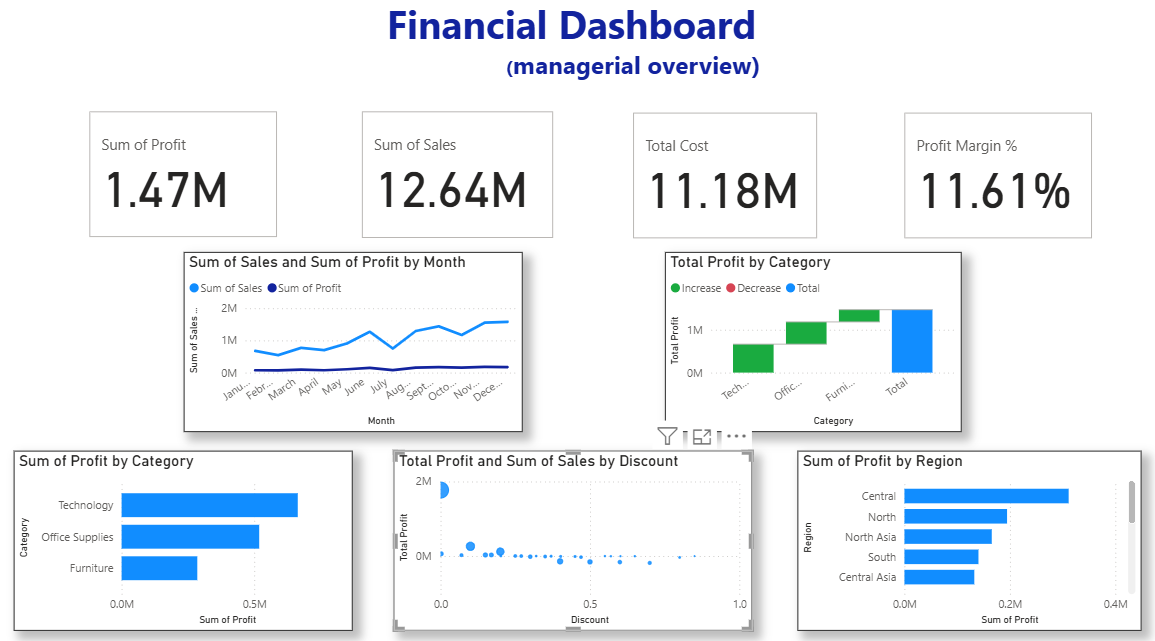

This screenshot's page, from the dashboard's own definition file:
{"tool":"powerbi","page":{"name":"Page 1","canvas":[1280,720],"ordinal":0},"visuals":[{"type":"cardVisual","fields":{"Data":["Sum(Sheet1.Profit)"]},"box":[98.8,126.2,216.8,148.2],"z":0},{"type":"cardVisual","fields":{"Data":["Sum(Sheet1.Sales)"]},"box":[397.9,126.2,220.9,149.6],"z":1000},{"type":"cardVisual","fields":{"Data":["Sheet1.Profit Margin %"]},"box":[993.5,127.6,216.8,148.2],"z":2000},{"type":"cardVisual","fields":{"Data":["Sheet1.Total Cost"]},"box":[695.7,127.6,212.7,148.2],"z":3000},{"type":"lineChart","fields":{"Category":["Sheet1.Order Date.Variation.Date Hierarchy.Month"],"Y":["Sum(Sheet1.Sales)","Sum(Sheet1.Profit)"]},"box":[207.2,285.4,371.9,197.6],"z":4000},{"type":"barChart","fields":{"Y":["Sum(Sheet1.Profit)"],"Category":["Sheet1.Category"]},"box":[20.6,503.6,371.9,197.6],"z":5000},{"type":"waterfallChart","fields":{"Category":["Sheet1.Category"],"Y":["Sheet1.Total Profit"]},"box":[735.5,285.4,325.2,197.6],"z":6000},{"type":"scatterChart","fields":{"X":["Sheet1.Discount"],"Y":["Sheet1.Total Profit"],"Size":["Sum(Sheet1.Sales)"]},"box":[437.7,503.6,393.8,197.6],"z":7000},{"type":"barChart","fields":{"Category":["Sheet1.Region"],"Y":["Sum(Sheet1.Profit)"]},"box":[881,503.6,377.4,197.6],"z":8000},{"type":"textbox","box":[356.8,0,564,127.6],"z":10001}]}

Visuals, with their boxes in screenshot pixels (x1, y1, x2, y2), scaled from the page's 1280x720 canvas onto the 1155x641 screenshot:
cardVisual - Sum(Sheet1.Profit): detection(89, 112, 285, 244)
cardVisual - Sum(Sheet1.Sales): detection(359, 112, 558, 246)
cardVisual - Sheet1.Profit Margin %: detection(896, 114, 1092, 246)
cardVisual - Sheet1.Total Cost: detection(628, 114, 820, 246)
lineChart - Sheet1.Order Date.Variation.Date Hierarchy.Month x Sum(Sheet1.Sales): detection(187, 254, 523, 430)
barChart - Sum(Sheet1.Profit) x Sheet1.Category: detection(19, 448, 354, 624)
waterfallChart - Sheet1.Category x Sheet1.Total Profit: detection(664, 254, 957, 430)
scatterChart - Sheet1.Discount x Sheet1.Total Profit: detection(395, 448, 750, 624)
barChart - Sheet1.Region x Sum(Sheet1.Profit): detection(795, 448, 1136, 624)
textbox: detection(322, 0, 831, 114)
